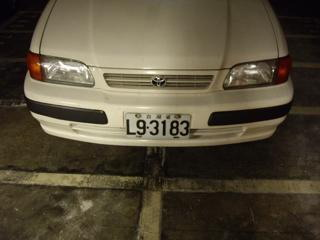plate: (123, 109, 192, 142)
